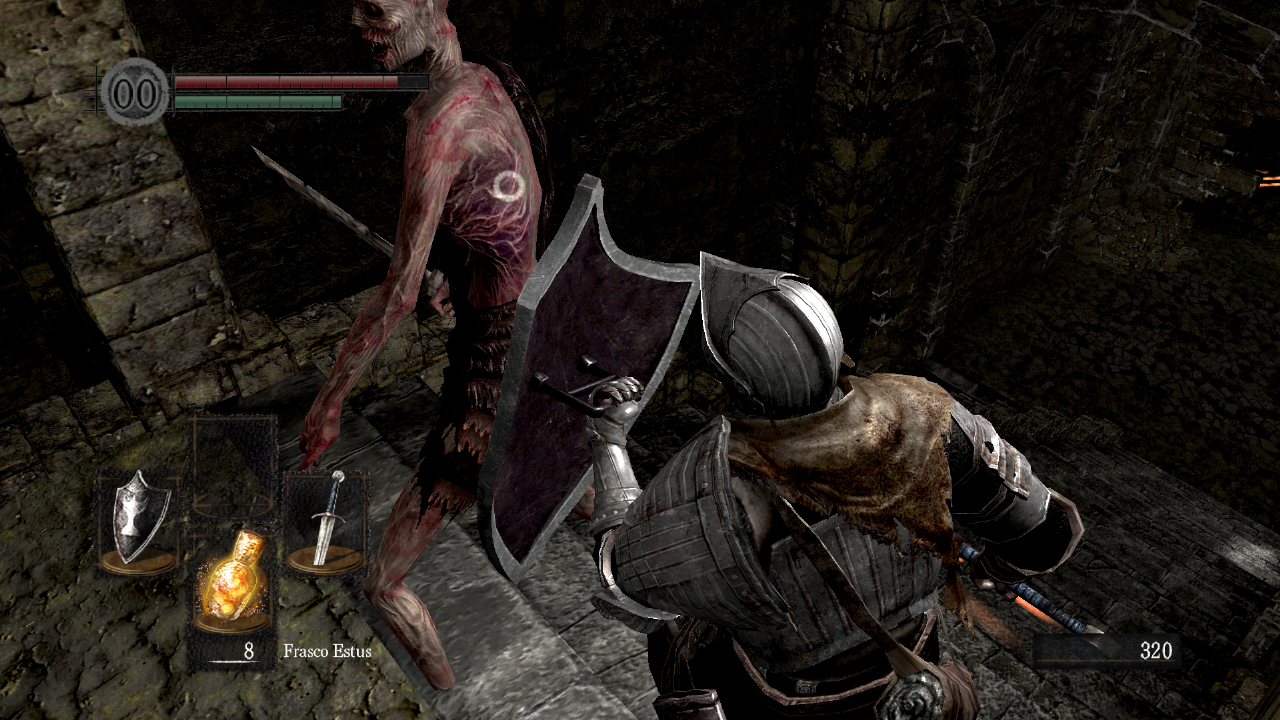hollow: (251, 1, 596, 692)
player: (478, 173, 1124, 720)
